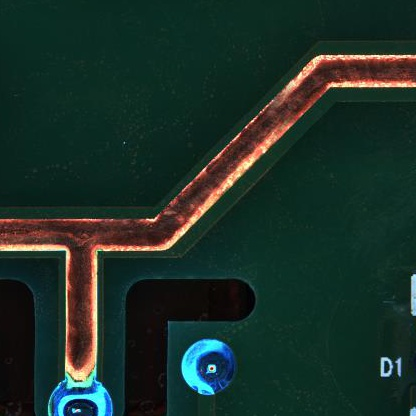spot: (181, 338, 238, 398), (46, 379, 112, 416)
